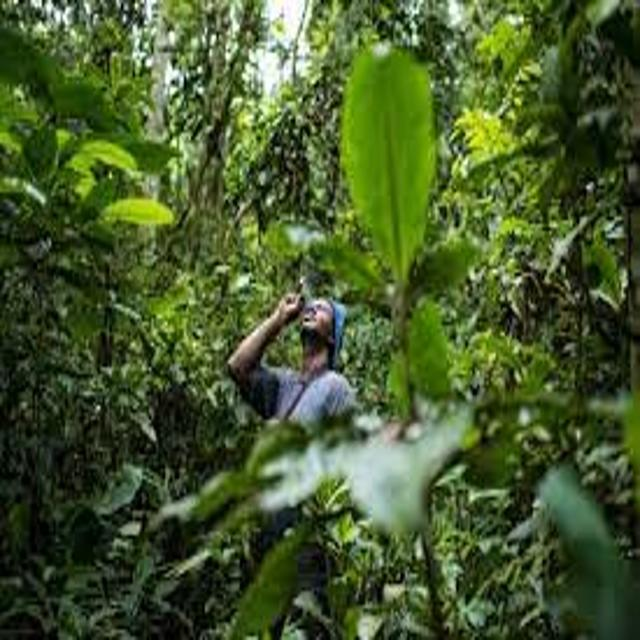poacher: (201, 254, 419, 541)
